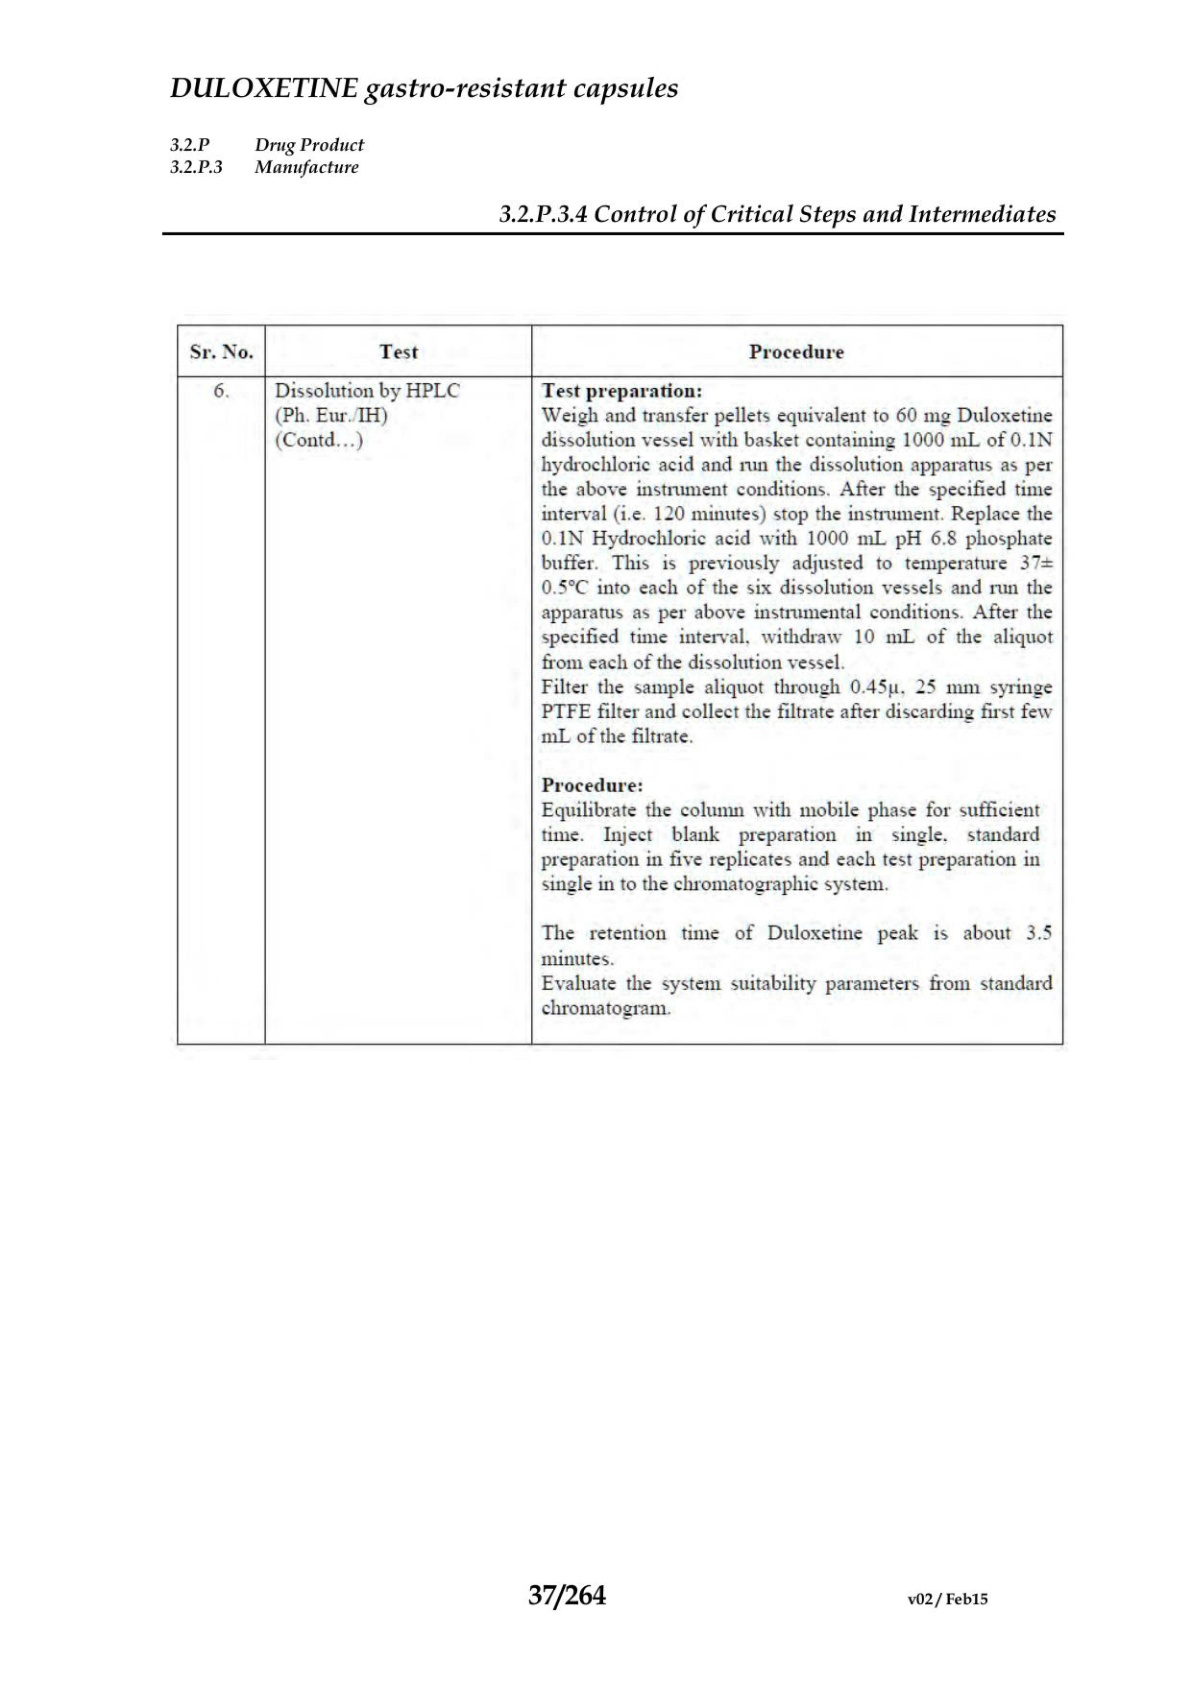full_lined: (175, 323, 1064, 1046)
